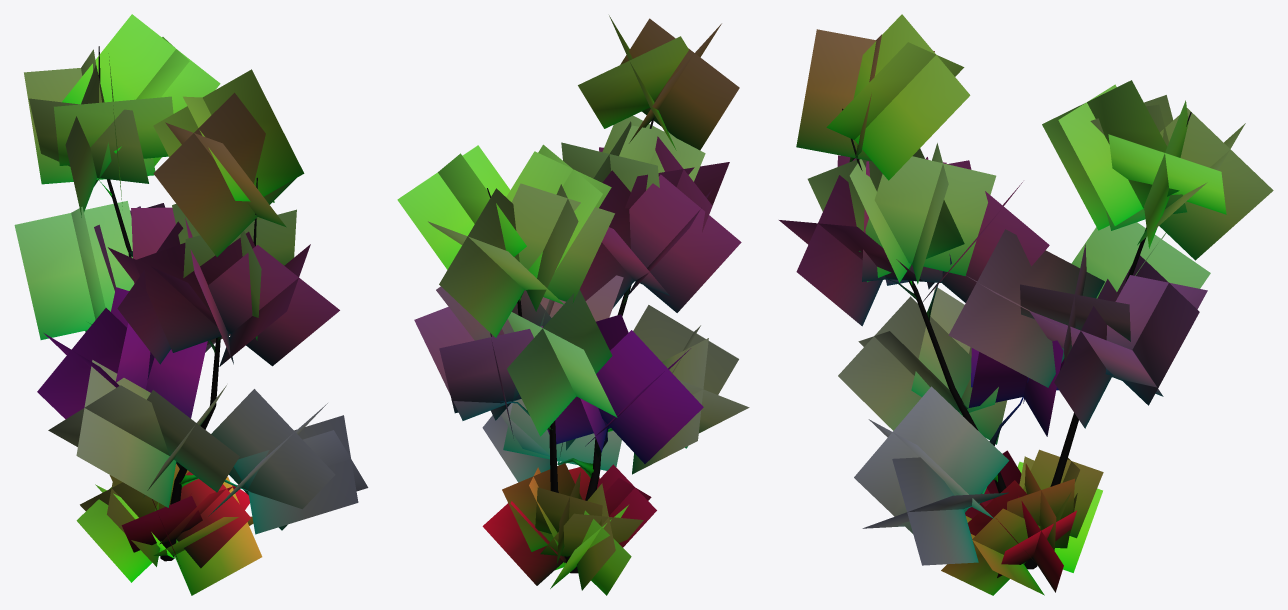
Rendered from URP_P12_Tree_7_LOD_3.fbx.
3 views of the same model, side by side, from view 1: azimuth 30°, elevation 25°; view 2: azimuth 150°, elevation 25°; view 3: azimuth 270°, elevation 25° (orthographic). The views are drawn at different scales.
Parts seen in each view (by area): view 1: Tree_7_LOD_3; view 2: Tree_7_LOD_3; view 3: Tree_7_LOD_3.
Part boxes in pixels (x1=…): Tree_7_LOD_3: x1=14, y1=14, x2=368, y2=595; Tree_7_LOD_3: x1=397, y1=15, x2=749, y2=595; Tree_7_LOD_3: x1=779, y1=14, x2=1273, y2=595.
Size of the model in its own units: 187 by 347 by 277.
